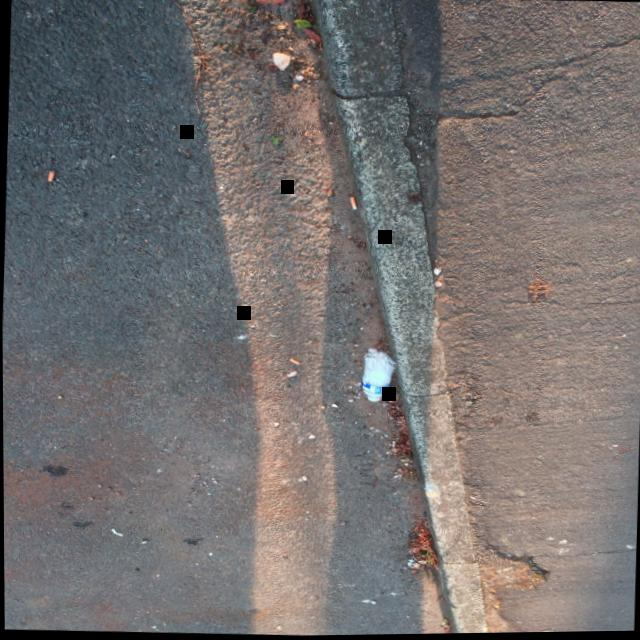Cigarette: (110, 528, 122, 537), (350, 197, 357, 210), (47, 170, 55, 181), (288, 358, 299, 365)
Clear plastic bottle: (361, 352, 396, 402)
